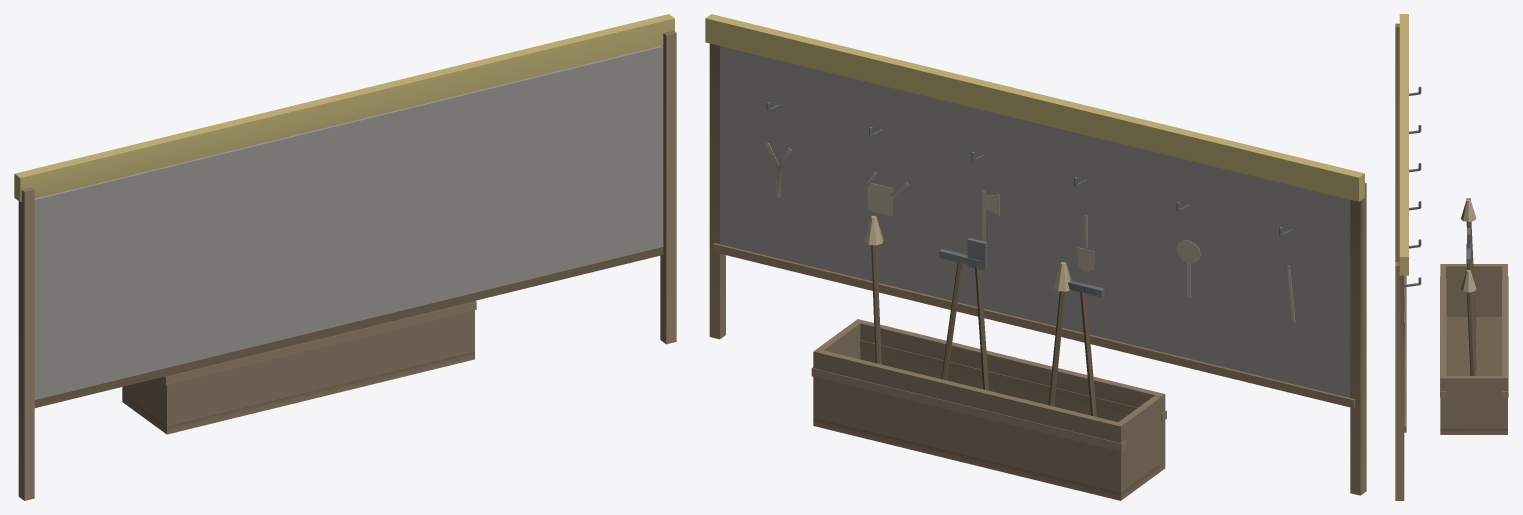
The model's file is mall_tool_wall.glb.
The picture shows the model from 3 angles, left to right: view 1: azimuth 30°, elevation 25°; view 2: azimuth 150°, elevation 25°; view 3: azimuth 270°, elevation 25°; orthographic projection. The views are drawn at different scales.
Parts seen in each view (by area): view 1: mall.tool_wall; view 2: mall.tool_wall; view 3: mall.tool_wall.
Part boxes in pixels (x1,y1,x2,y2): mall.tool_wall: (14, 14, 676, 500); mall.tool_wall: (705, 14, 1366, 500); mall.tool_wall: (1395, 14, 1508, 500).
Size of the model in its own units: 5.1 by 2.39 by 1.
